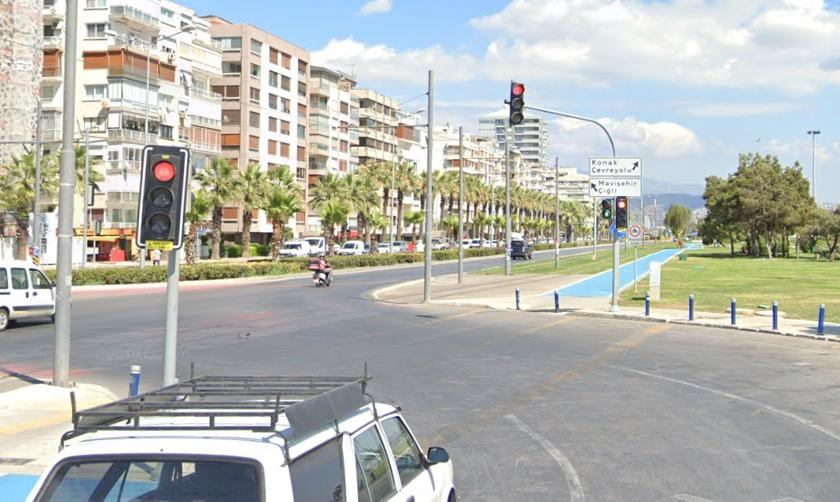redlight: (141, 144, 183, 250), (509, 78, 527, 127), (615, 195, 628, 230)
